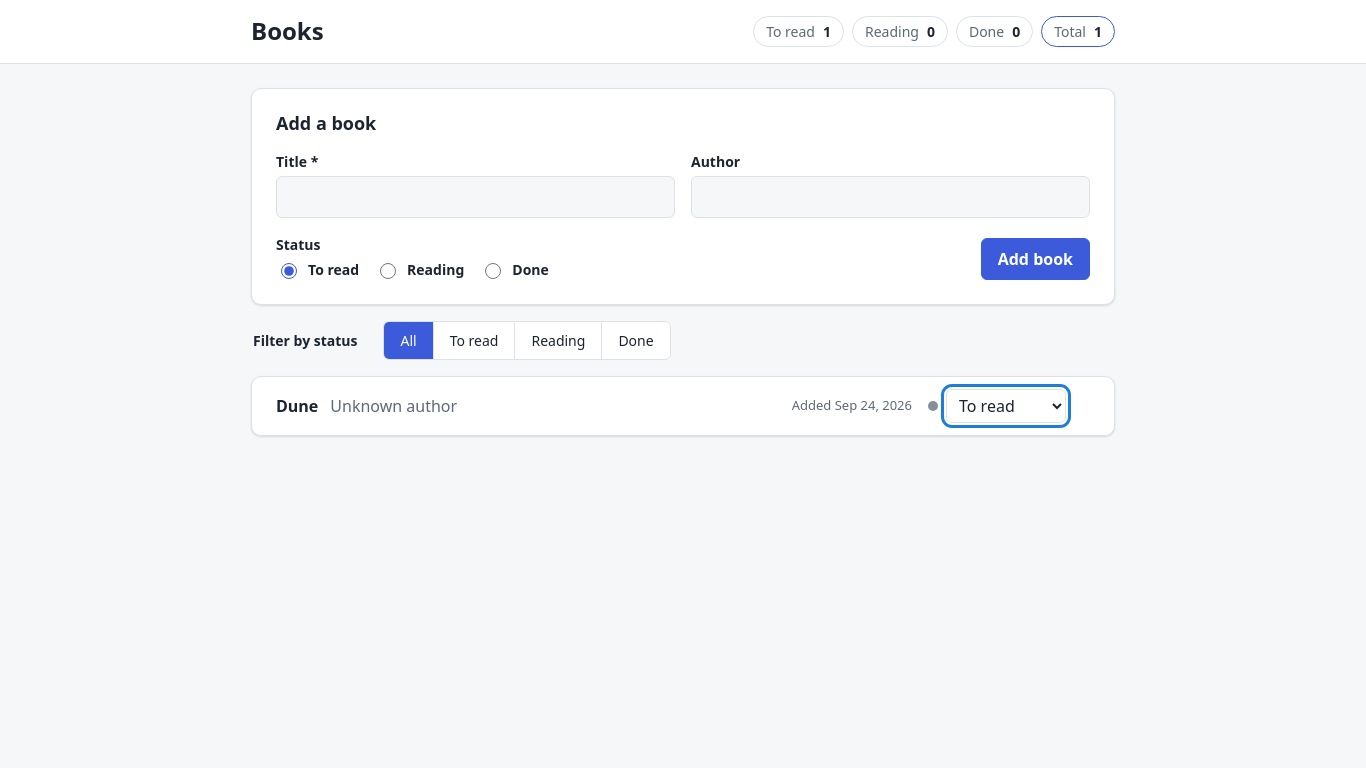
Test: Changing a book status › keeps focus on the select for keyboard users
Select "Done" in the dropdown named "Status for Dune" at (1006, 406), box [946,389,1066,423]
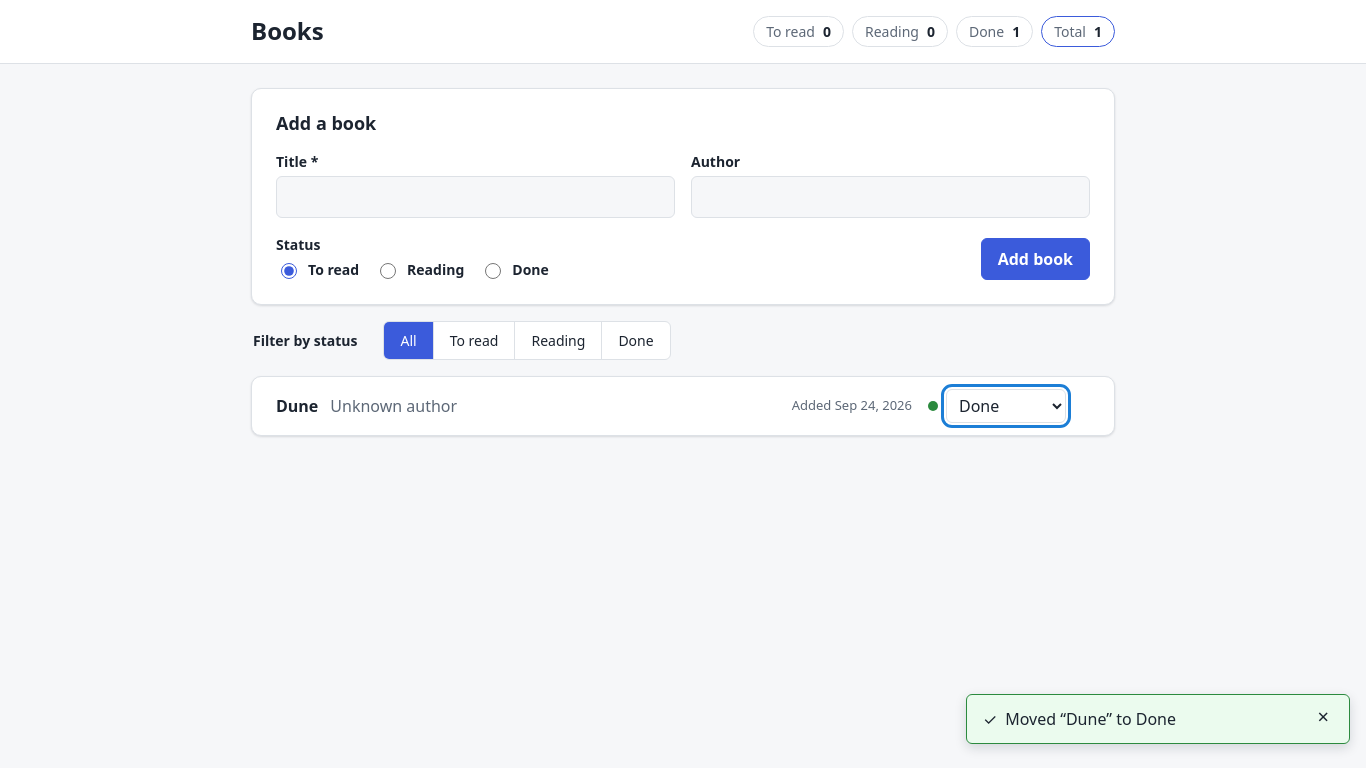
Result: the text "Moved “Dune” to Done" is shown at [1005,708,1176,730]
